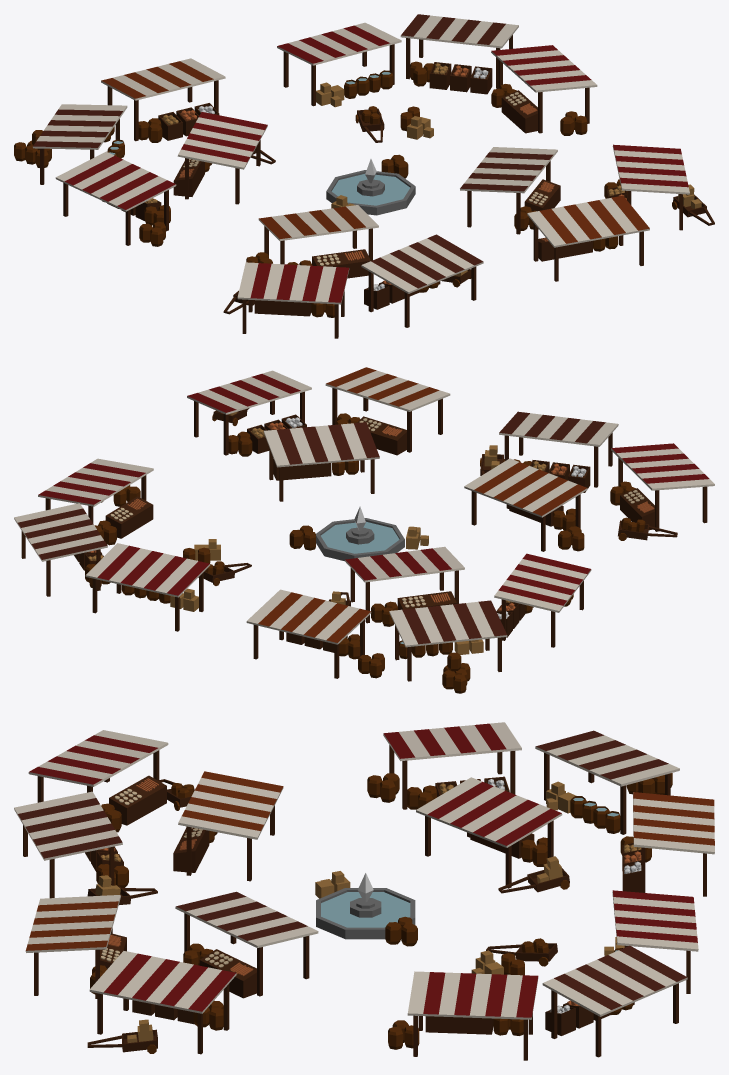
The model's file is Marketv2.fbx.
3 views of the same model, one above another, from view 1: azimuth 30°, elevation 25°; view 2: azimuth 150°, elevation 25°; view 3: azimuth 270°, elevation 25° (orthographic). The views are drawn at different scales.
Visible parts, largest first — view 1: Circle.032; view 2: Circle.032; view 3: Circle.032.
Part boxes in pixels (box(x1,y1,x2,y2)): Circle.032: box(14, 14, 714, 338); Circle.032: box(14, 367, 714, 693); Circle.032: box(14, 722, 714, 1060).
Size of the model in its own units: 414 by 35.65 by 415.
